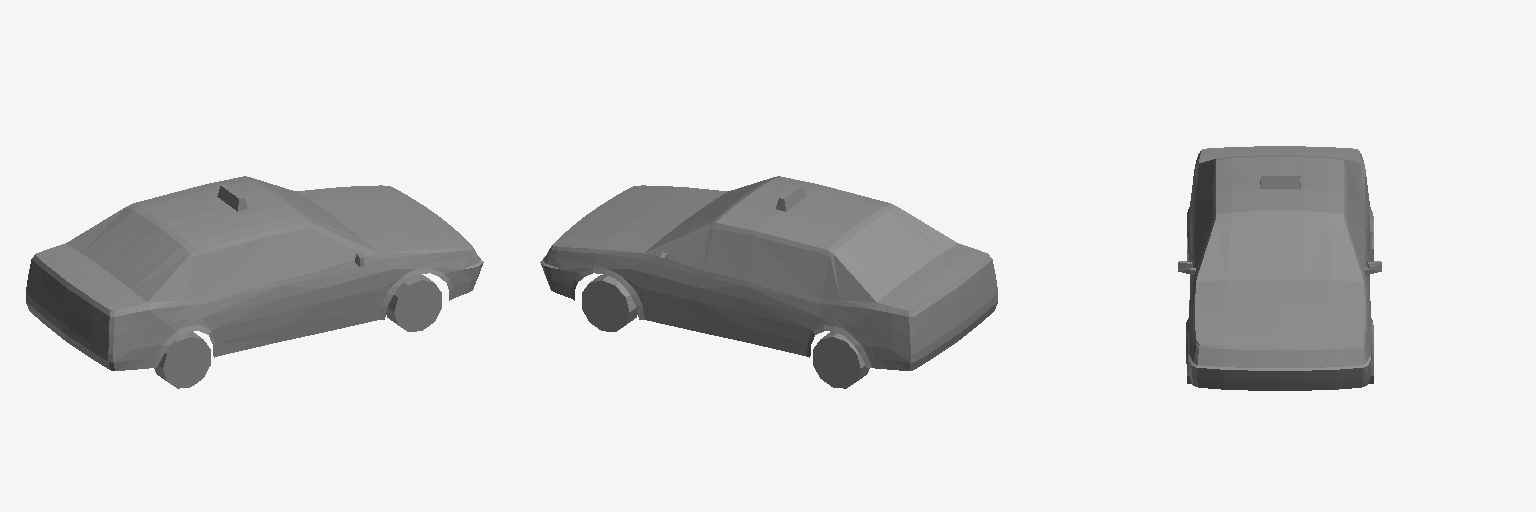
Rendered from chuzu02.obj.
3 views of the same model, side by side, from view 1: azimuth 30°, elevation 25°; view 2: azimuth 150°, elevation 25°; view 3: azimuth 270°, elevation 25° (orthographic).
Visible parts, largest first — view 1: chuzu02; view 2: chuzu02; view 3: chuzu02.
Boxes of the visible parts, x1=… form: chuzu02: x1=26, y1=176, x2=483, y2=388; chuzu02: x1=540, y1=176, x2=997, y2=388; chuzu02: x1=1178, y1=146, x2=1381, y2=390.
Size of the model in its own units: 502 by 174 by 231.